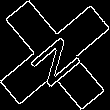N_NE: (23, 23, 87, 87)
